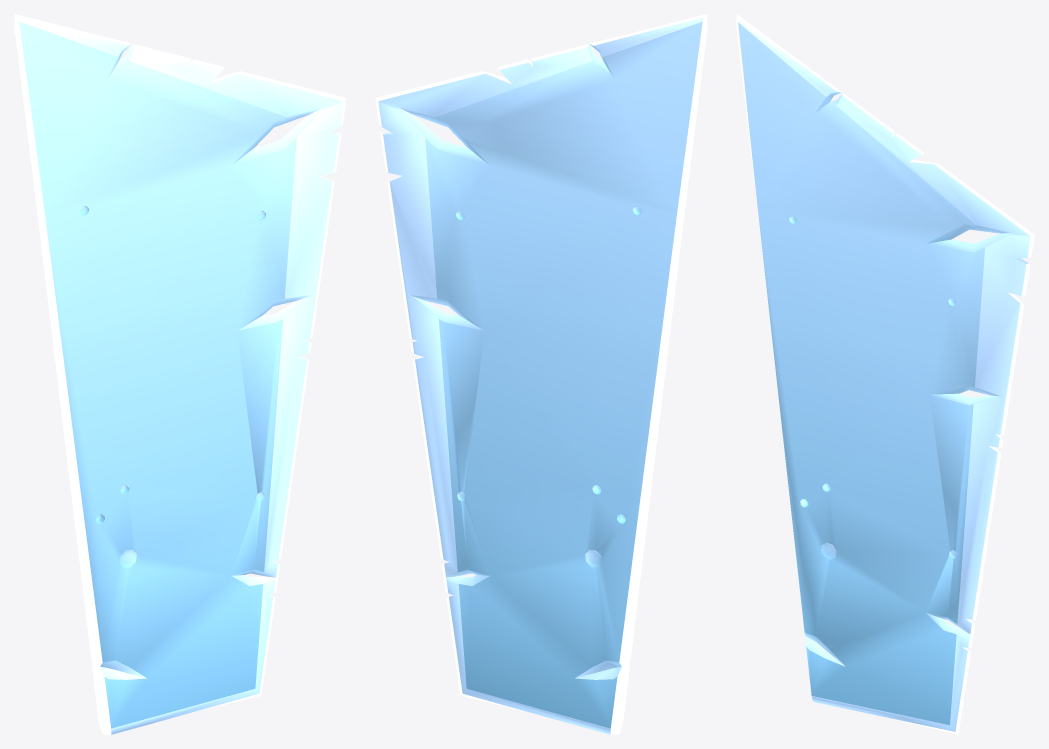
Rendered from steel_blade_bubbles_045.glb.
3 renders of one model, left to right at view 1: azimuth 30°, elevation 25°; view 2: azimuth 150°, elevation 25°; view 3: azimuth 330°, elevation 25°, orthographic. The views are drawn at different scales.
Parts seen in each view (by area): view 1: steel_blade_bubbles.045; view 2: steel_blade_bubbles.045; view 3: steel_blade_bubbles.045.
Part boxes in pixels (x1,y1,x2,y2): steel_blade_bubbles.045: (14,14,346,734); steel_blade_bubbles.045: (375,14,707,734); steel_blade_bubbles.045: (736,14,1034,734).
Bounding box in the file's own units: 5.55 × 11.85 × 0.374.
Materials: 1 (1 with a texture image).
